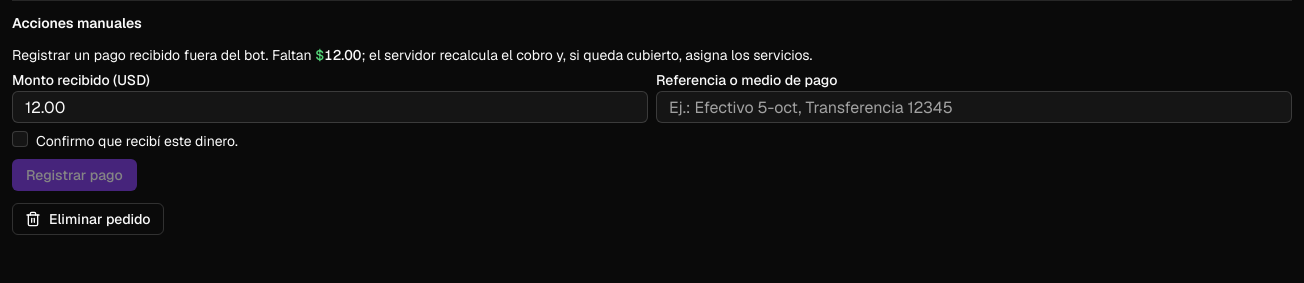
Test: PedidoManualActions › registra un pago manual solo con monto válido, referencia y confirmación
This screenshot has width=1304, height=283.
Expected: the field labelled "Monto recibido (USD)" holds "12.00", [12,91,648,123]
Expected: the button "Registrar pago" is disabled, [12,159,137,191]
In the field labelled "Referencia o medio de pago": (974, 107) [656,91,1292,123], type " Efectivo 5-oct "
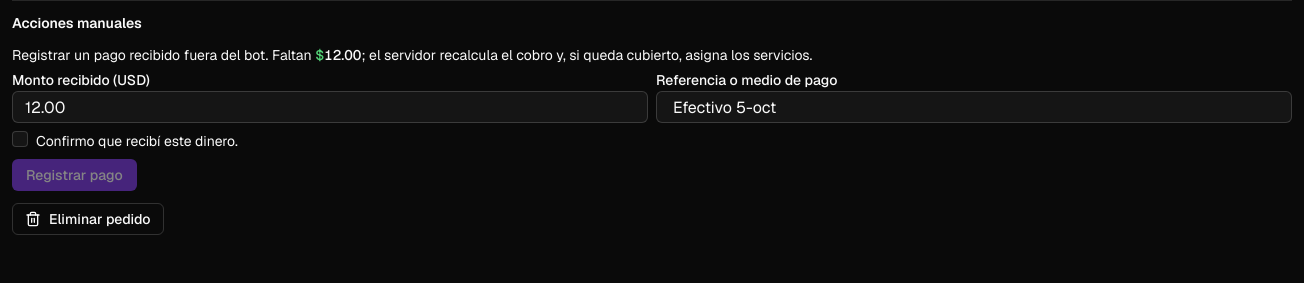
Click the checkbox named "Confirmo que recibí": (20, 139) [12,131,28,147]
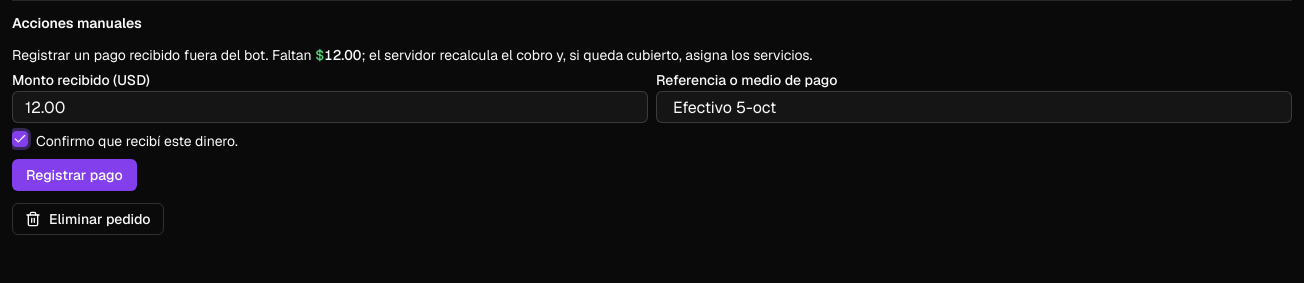
Replace the text in the field labelled "Monto recibido (USD)" with "5.123": (330, 107) [12,91,648,123]
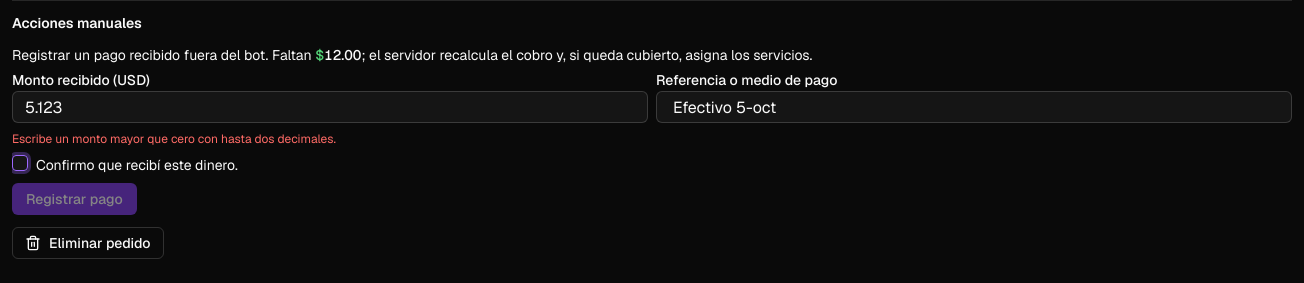
Result: the message shows "hasta dos decimales" at [12,131,336,147]
Result: the button "Registrar pago" is disabled at [12,183,137,215]
Replace the text in the field labelled "Monto recibido (USD)" with "5.50": (330, 107) [12,91,648,123]
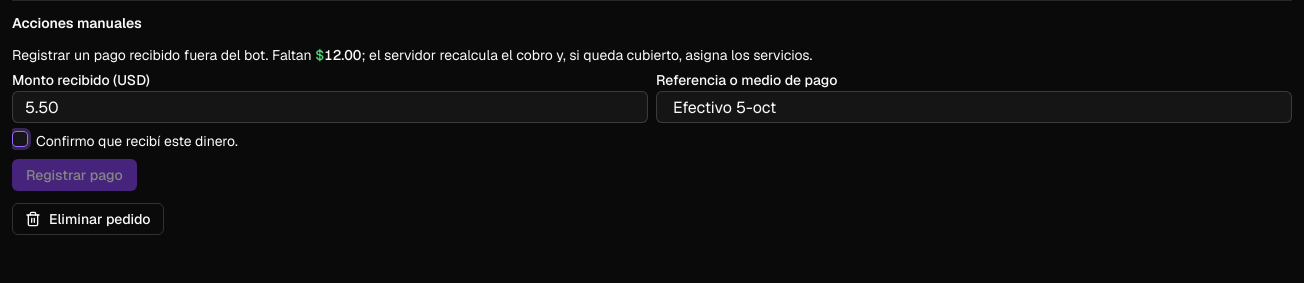
Click the checkbox named "Confirmo que recibí": (20, 139) [12,131,28,147]
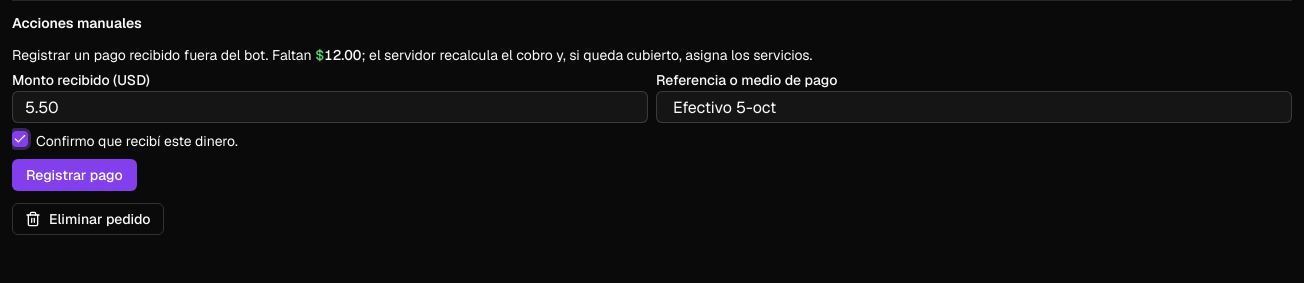
Click the button "Registrar pago": (74, 175) [12,159,137,191]
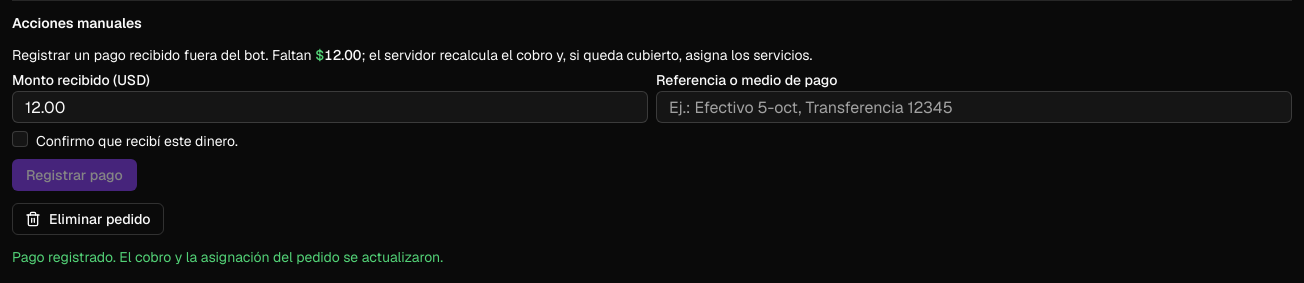
Result: the text "Pago registrado. El cobro y la asignación del pedido se actualizaron." is shown at [12,248,443,266]
